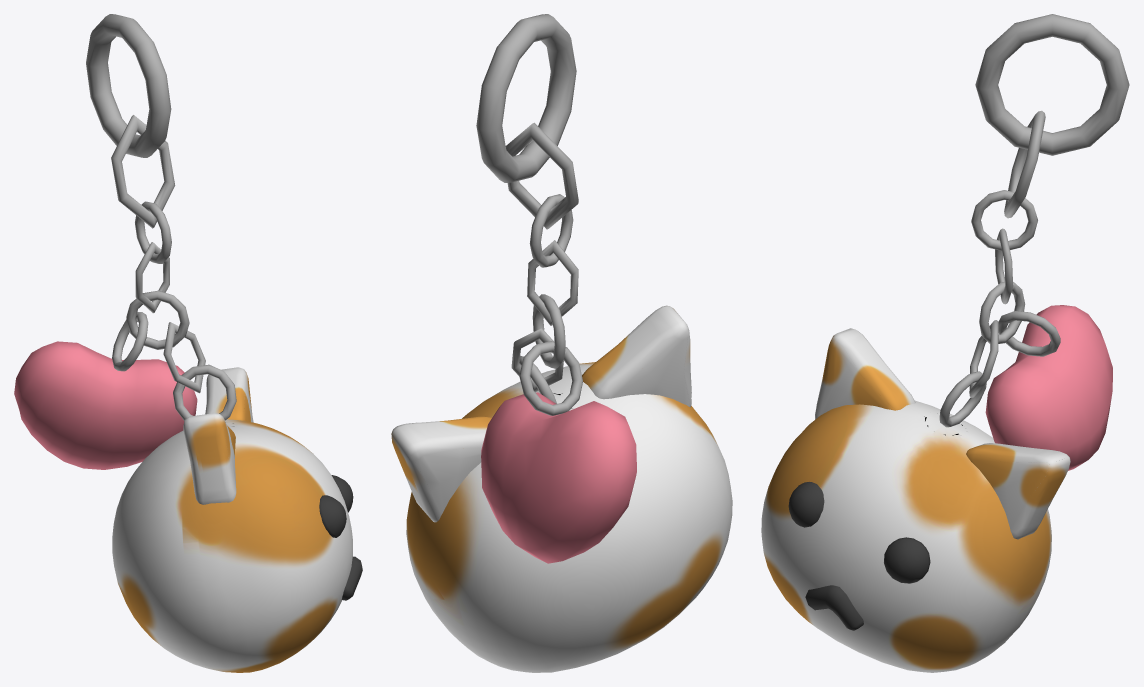
File: key chain (1).fbx
3 views of the same model, side by side, from view 1: azimuth 30°, elevation 25°; view 2: azimuth 150°, elevation 25°; view 3: azimuth 270°, elevation 25° (orthographic). The views are drawn at different scales.
Visible parts, largest first — view 1: Cube.002_coeur_0; view 2: Cube.002_coeur_0; view 3: Cube.002_coeur_0.
Part boxes in pixels (box(x1,y1,x2,y2)): Cube.002_coeur_0: box(14, 14, 362, 672); Cube.002_coeur_0: box(391, 14, 732, 672); Cube.002_coeur_0: box(761, 14, 1129, 672).
Bounding box in the file's own units: 50.13 × 114 × 61.15.
5 materials, 2 textured.
